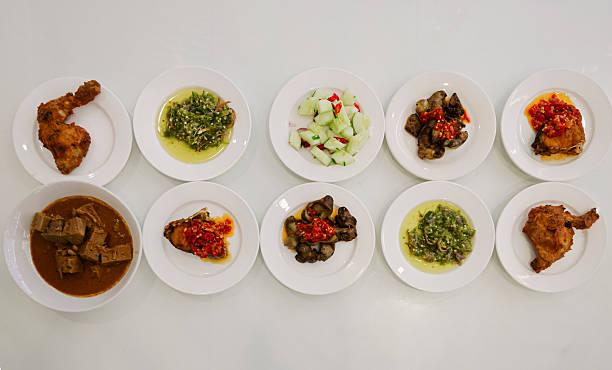Braised Crucian Carp: (3, 180, 141, 312), (267, 67, 385, 182), (132, 65, 250, 180), (380, 179, 497, 293), (142, 180, 259, 294), (10, 76, 130, 187), (259, 181, 376, 294), (498, 67, 612, 182), (494, 181, 608, 293), (383, 70, 498, 181)
